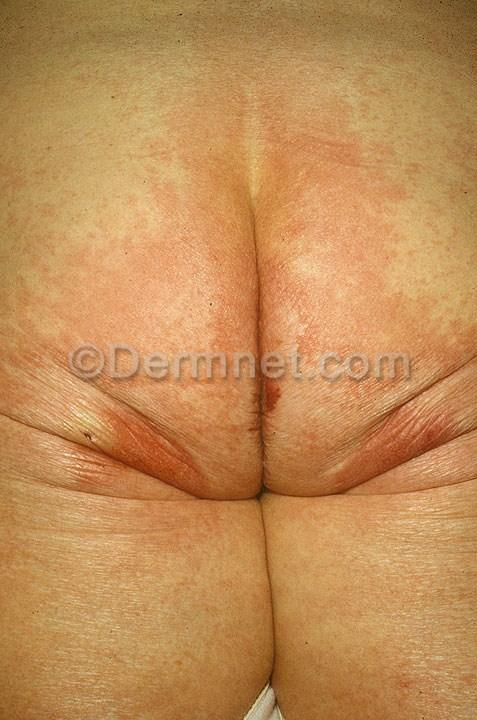Eczema: (237, 94, 397, 318), (267, 312, 409, 549), (70, 139, 232, 346), (12, 343, 157, 558), (310, 548, 469, 720), (396, 303, 477, 515)
